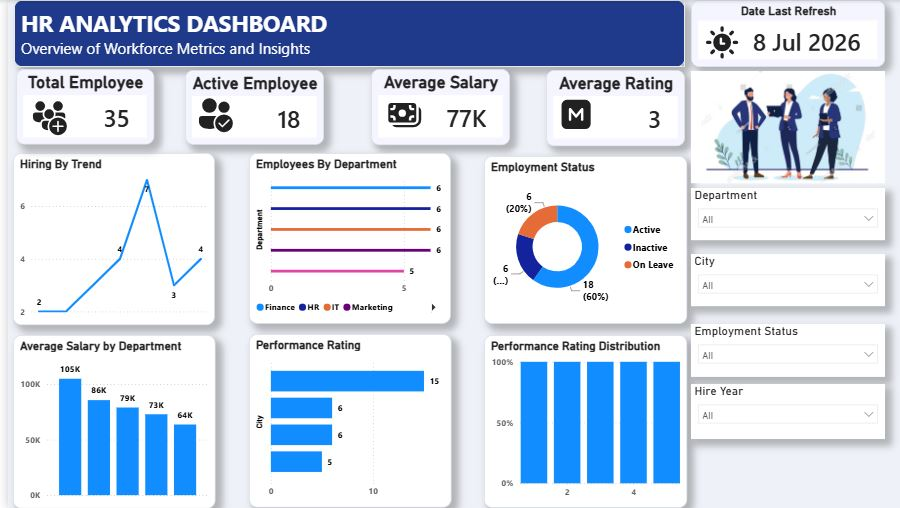

The page's visual inventory and layout, read from the dashboard file:
{"tool":"powerbi","page":{"name":"Dashboard - V2","canvas":[1280,720],"ordinal":0},"visuals":[{"type":"textbox","box":[8.5,0,951,95],"z":0},{"type":"cardVisual","title":"Total Employee","fields":{"Data":["Hr_Dataset.Total Employee"]},"box":[10.7,98.1,195.9,107.3],"z":1000,"group":"g1"},{"type":"cardVisual","title":"Active Employee","fields":{"Data":["Hr_Dataset.Active Employees"]},"box":[250.9,99.7,197,106.3],"z":1000},{"type":"cardVisual","title":"Average Salary","fields":{"Data":["Hr_Dataset.Average Salary"]},"box":[514.5,98.2,197,107.7],"z":2000},{"type":"cardVisual","title":"Average Rating","fields":{"Data":["Hr_Dataset.Average Rating"]},"box":[762.5,99.7,197,107.7],"z":3000},{"type":"donutChart","title":"Employment Status","fields":{"Category":["Hr_Dataset.Employment_Status"],"Y":["CountNonNull(Hr_Dataset.Employment_Status)"]},"box":[674.6,221.1,287.7,238.1],"z":4000},{"type":"clusteredBarChart","title":"Employees By Department","fields":{"Category":["Hr_Dataset.Department"],"Y":["CountNonNull(Hr_Dataset.Department)"],"Series":["Hr_Dataset.Department"]},"box":[341.6,216.9,286.3,242.4],"z":5000},{"type":"lineChart","title":"Hiring By Trend","fields":{"Category":["Hr_Dataset.Hire_Date.Variation.Date Hierarchy.Year"],"Y":["Hr_Dataset.Total Employee"]},"box":[7.1,216.9,286.3,243.8],"z":6000},{"type":"clusteredColumnChart","fields":{"Y":["Hr_Dataset.Average Salary"],"Category":["Hr_Dataset.Department"]},"box":[7.1,474.8,287,246],"z":7000},{"type":"clusteredBarChart","title":"Performance Rating","fields":{"Category":["Hr_Dataset.City"],"Y":["CountNonNull(Hr_Dataset.City)"]},"box":[341.2,473.4,287,246],"z":8000},{"type":"hundredPercentStackedColumnChart","title":"Performance Rating Distribution","fields":{"Y":["Sum(Hr_Dataset.Performance_Rating)"],"Category":["Hr_Dataset.Performance_Rating"]},"box":[674.6,474.8,287.7,245.2],"z":9000},{"type":"slicer","title":"Department","fields":{"Values":["Hr_Dataset.Department"]},"box":[968,266.5,275,73.7],"z":10000},{"type":"slicer","title":"Employment Status","fields":{"Values":["Hr_Dataset.Employment_Status"]},"box":[968,459.2,275,75.1],"z":11000},{"type":"slicer","title":"Hire Year","fields":{"Values":["Hr_Dataset.Hire_Date.Variation.Date Hierarchy.Year"]},"box":[968,544.3,275,78],"z":12000},{"type":"cardVisual","title":"Date Last Refresh","fields":{"Data":["Hr_Dataset.Last Refresh"]},"box":[968,0,275,95],"z":13000},{"type":"slicer","title":"City","fields":{"Values":["Hr_Dataset.City"]},"box":[968,360,275,73.7],"z":14000},{"type":"group","id":"g1","title":"Group 1","box":[10.7,98.1,195.9,107.3],"z":15000},{"type":"image","box":[983.6,32.6,56.7,55.3],"z":16000},{"type":"image","box":[265,134.6,56.7,55.3],"z":17000},{"type":"image","box":[534.3,134.6,56,55.3],"z":18000},{"type":"image","box":[776.7,134.6,56.7,55.3],"z":19000},{"type":"image","box":[29.1,139.2,56.7,55.3],"z":19001,"group":"g1"},{"type":"image","box":[968,100.6,275,158.7],"z":20000}]}

Visuals, with their boxes in screenshot pixels (x1, y1, x2, y2), scaled from the page's 1280x720 canvas onto the 900x508 screenshot:
textbox: [left=6, top=0, right=675, bottom=67]
"Total Employee" cardVisual: [left=8, top=69, right=145, bottom=145]
"Active Employee" cardVisual: [left=176, top=70, right=315, bottom=145]
"Average Salary" cardVisual: [left=362, top=69, right=500, bottom=145]
"Average Rating" cardVisual: [left=536, top=70, right=675, bottom=146]
"Employment Status" donutChart: [left=474, top=156, right=677, bottom=324]
"Employees By Department" clusteredBarChart: [left=240, top=153, right=441, bottom=324]
"Hiring By Trend" lineChart: [left=5, top=153, right=206, bottom=325]
clusteredColumnChart - Hr_Dataset.Average Salary x Hr_Dataset.Department: [left=5, top=335, right=207, bottom=507]
"Performance Rating" clusteredBarChart: [left=240, top=334, right=442, bottom=507]
"Performance Rating Distribution" hundredPercentStackedColumnChart: [left=474, top=335, right=677, bottom=507]
"Department" slicer: [left=681, top=188, right=874, bottom=240]
"Employment Status" slicer: [left=681, top=324, right=874, bottom=377]
"Hire Year" slicer: [left=681, top=384, right=874, bottom=439]
"Date Last Refresh" cardVisual: [left=681, top=0, right=874, bottom=67]
"City" slicer: [left=681, top=254, right=874, bottom=306]
"Group 1" group: [left=8, top=69, right=145, bottom=145]
image: [left=692, top=23, right=731, bottom=62]
image: [left=186, top=95, right=226, bottom=134]
image: [left=376, top=95, right=415, bottom=134]
image: [left=546, top=95, right=586, bottom=134]
image: [left=20, top=98, right=60, bottom=137]
image: [left=681, top=71, right=874, bottom=183]
